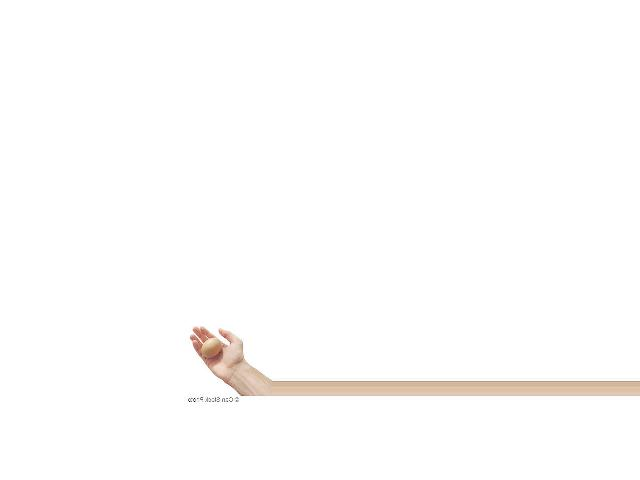egg: (200, 338, 219, 357)
